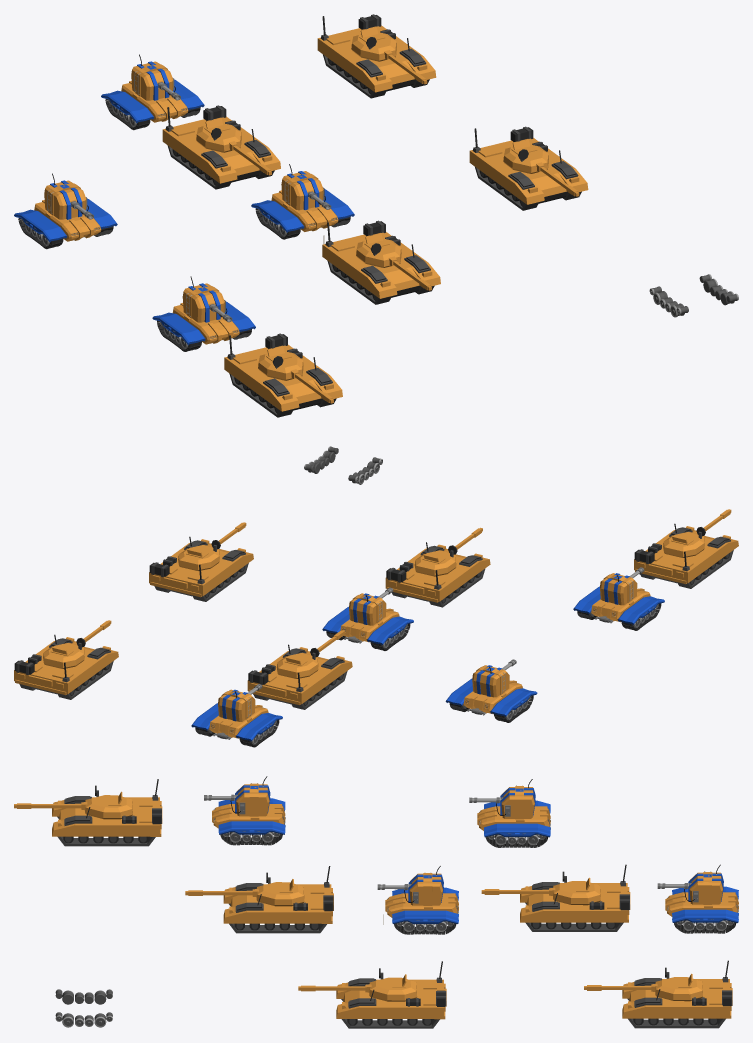
The model's file is Low_Poly_Army_Tank_Pack.glb.
3 views of the same model, one above another, from view 1: azimuth 30°, elevation 25°; view 2: azimuth 150°, elevation 25°; view 3: azimuth 270°, elevation 25° (orthographic). The views are drawn at different scales.
Parts seen in each view (by area): view 1: unnamed (×29); view 2: unnamed (×29); view 3: unnamed (×29).
Part boxes in pixels (box(x1,y1,x2,y2)): unnamed (×29): box(14, 14, 737, 417); unnamed (×29): box(14, 446, 738, 741); unnamed (×29): box(14, 779, 738, 1028).
Bounding box in the file's own units: 38.61 × 5.02 × 55.44.
